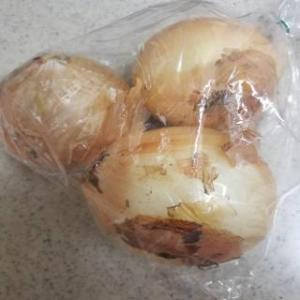onion: (82, 125, 282, 263), (135, 15, 281, 129), (0, 50, 134, 169)
